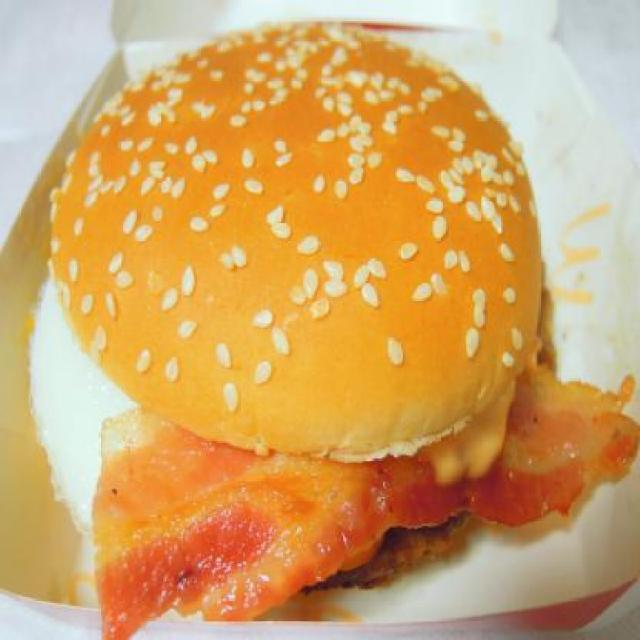Hamburger: (26, 19, 640, 639)
